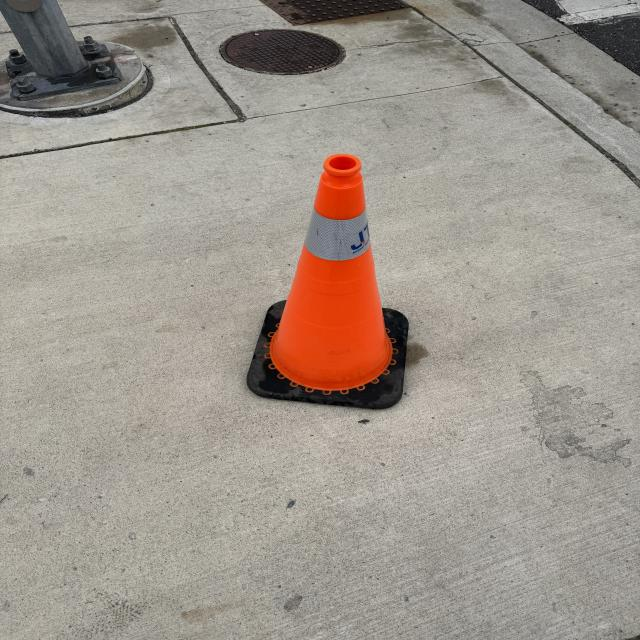Traffic Cone: (246, 152, 410, 409)
